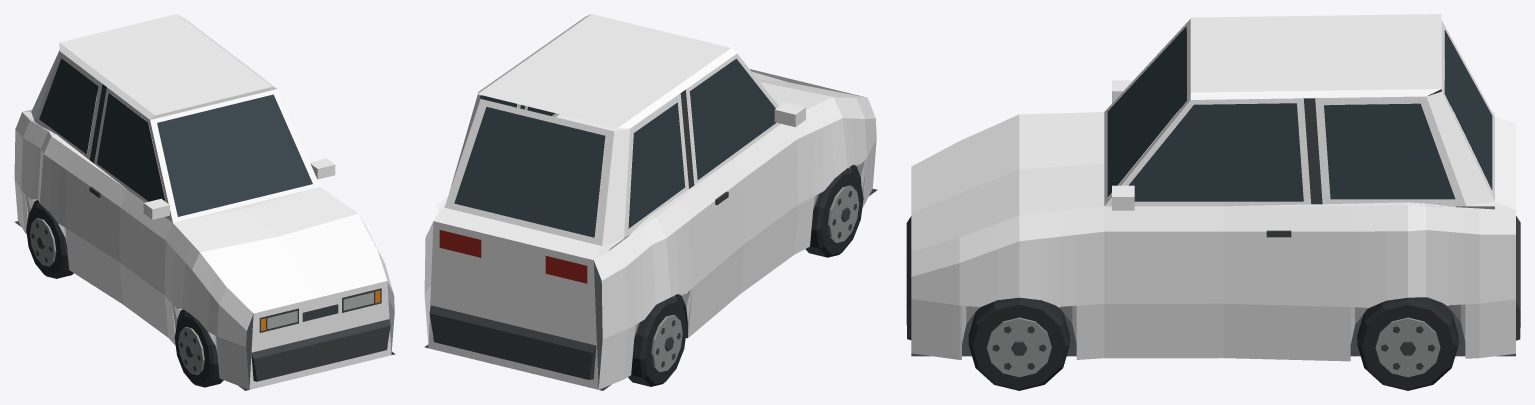
The model's file is tokiwa_takane.glb.
The picture shows the model from 3 angles, left to right: view 1: azimuth 30°, elevation 25°; view 2: azimuth 150°, elevation 25°; view 3: azimuth 270°, elevation 25°; orthographic projection. The views are drawn at different scales.
Parts seen in each view (by area): view 1: tokiwa_takane; view 2: tokiwa_takane; view 3: tokiwa_takane.
Boxes of the visible parts, x1,y1,x2,y2 form: tokiwa_takane: (14,14,395,390); tokiwa_takane: (424,14,877,390); tokiwa_takane: (906,14,1520,390).
Bounding box in the file's own units: 1.46 × 1.66 × 3.24.
8 materials, 1 textured.
